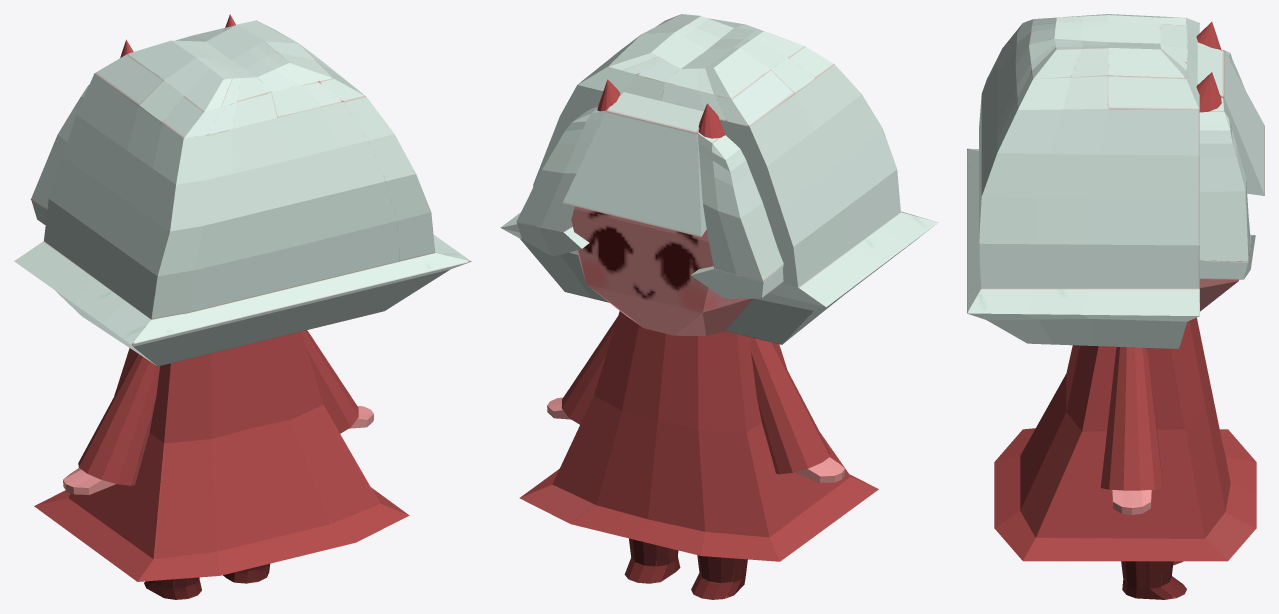
Rendered from Lalah.fbx.
The picture shows the model from 3 angles, left to right: view 1: azimuth 30°, elevation 25°; view 2: azimuth 150°, elevation 25°; view 3: azimuth 270°, elevation 25°; orthographic projection. The views are drawn at different scales.
Visible parts, largest first — view 1: Back, Dress, Arm, Arm_1, cuboid_1, Leg, Hand; view 2: Back, Dress, Bangs, Head, cuboid_1, Arm, cuboid_2, Leg, Arm_1, Leg_1, cuboid, cuboid_3 (+2 smaller); view 3: Back, Dress, cuboid_2, Arm_1, Bangs, Leg_1, cuboid_3, Hand_1, cone, Head.
Part boxes in pixels (x1,y1,x2,y2): Back: (14, 20, 471, 366); Dress: (34, 331, 409, 581); Arm: (78, 353, 160, 485); Arm_1: (301, 330, 358, 433); cuboid_1: (30, 84, 89, 209); Leg: (144, 577, 201, 599); Hand: (63, 468, 115, 494); Back: (500, 14, 938, 344); Dress: (519, 311, 878, 561); Bangs: (562, 92, 706, 237); Head: (571, 206, 753, 335); cuboid_1: (698, 132, 783, 282); Arm: (750, 337, 830, 474); cuboid_2: (516, 106, 605, 231); Leg: (691, 555, 747, 599); Arm_1: (561, 316, 617, 424); Leg_1: (624, 538, 680, 583); cuboid: (691, 264, 783, 298); cuboid_3: (517, 221, 589, 256); Back: (967, 14, 1199, 348); Dress: (994, 317, 1256, 561); cuboid_2: (1199, 98, 1250, 262); Arm_1: (1100, 347, 1163, 490); Bangs: (1197, 42, 1264, 195); Leg_1: (1121, 561, 1186, 599); cuboid_3: (1199, 235, 1255, 279); Hand_1: (1111, 490, 1152, 514); cone: (1196, 72, 1221, 112); Head: (1200, 279, 1238, 311).
Size of the model in its own units: 93.75 by 144 by 71.65.
1 material, 1 textured.
